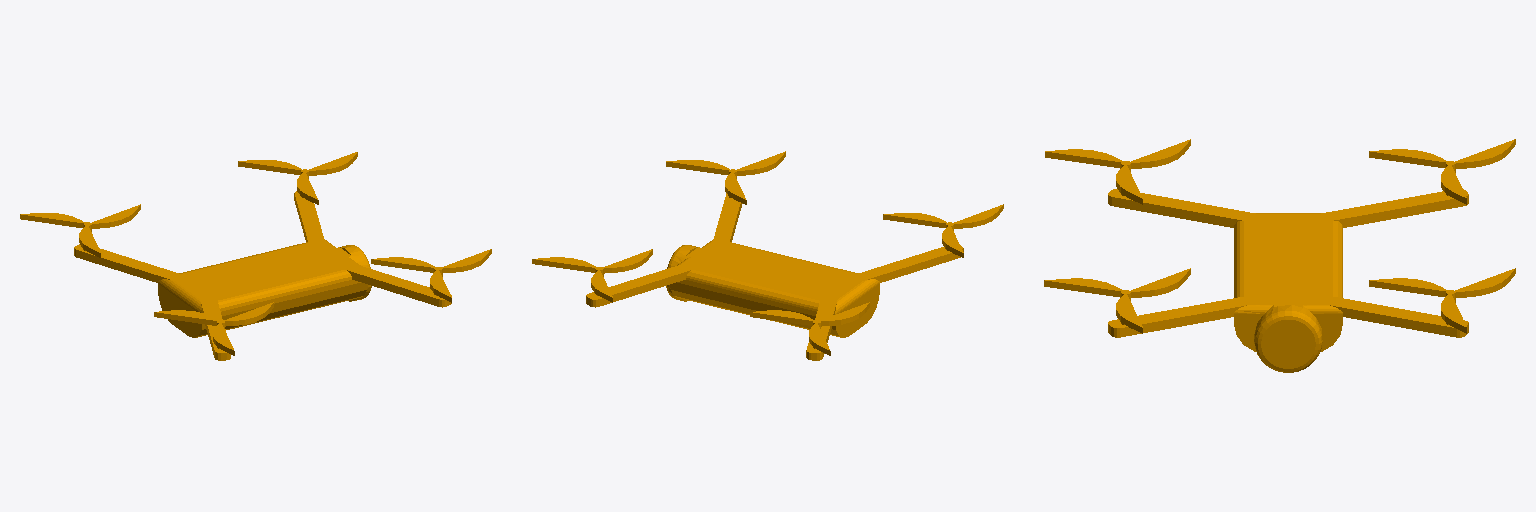
robot.urdf — dronealt:
<robot name="dronealt">

  <material name="DroneRed">
    <color rgba="1.0 0.0 0.0 0.5"/>
  </material>
  <link name="drone_alt_mesh">
    <visual>
      <origin rpy="0 0 0"  xyz="0 0 0"/>
      <geometry>
        <mesh filename="package://drone_panda/meshes/fake_drone.STL"/>
      </geometry>
      <material name="DroneGreen"/>
    </visual>
  </link>
</robot>

--- What the picture shows (computed from the rendered views, not written in the file) ---
The picture shows the robot from 3 angles, left to right: view 1: azimuth 30°, elevation 25°; view 2: azimuth 150°, elevation 25°; view 3: azimuth 270°, elevation 25°; orthographic projection.
Model dronealt with 1 links and 0 joints (none), rooted at drone_alt_mesh, posed all joints at 0.
Links seen in each view (by area): view 1: drone_alt_mesh; view 2: drone_alt_mesh; view 3: drone_alt_mesh.
Link boxes in pixels (x1=…): drone_alt_mesh: x1=20, y1=152, x2=491, y2=360; drone_alt_mesh: x1=532, y1=151, x2=1003, y2=360; drone_alt_mesh: x1=1044, y1=139, x2=1515, y2=372.
Bounding box of the posed robot: 0.1306 × 0.1377 × 0.0289 m (x, y, z).
Meshes: 1 distinct files referenced, 1 mesh visuals loaded (1 binary STL).